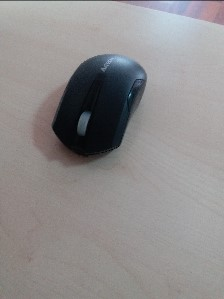mouse: (52, 53, 146, 160)
